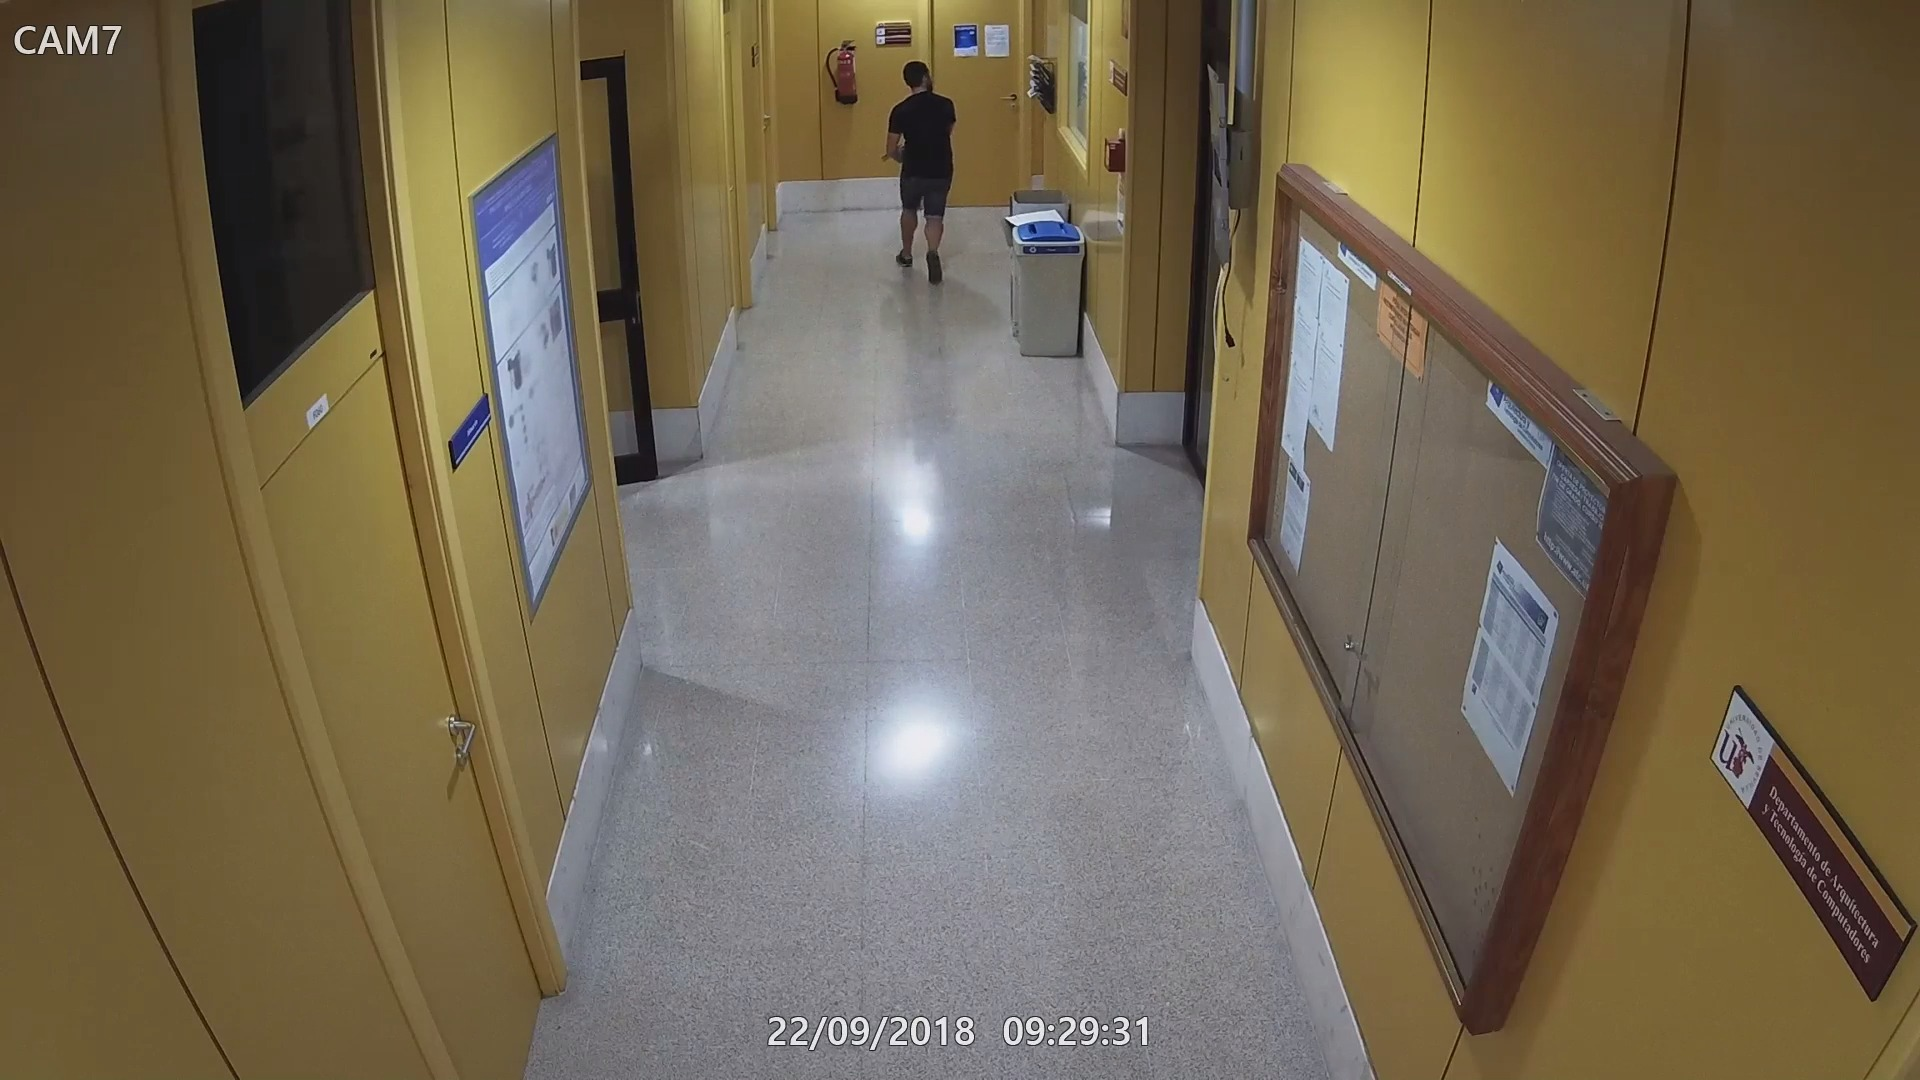Handgun: (878, 138, 905, 165)
